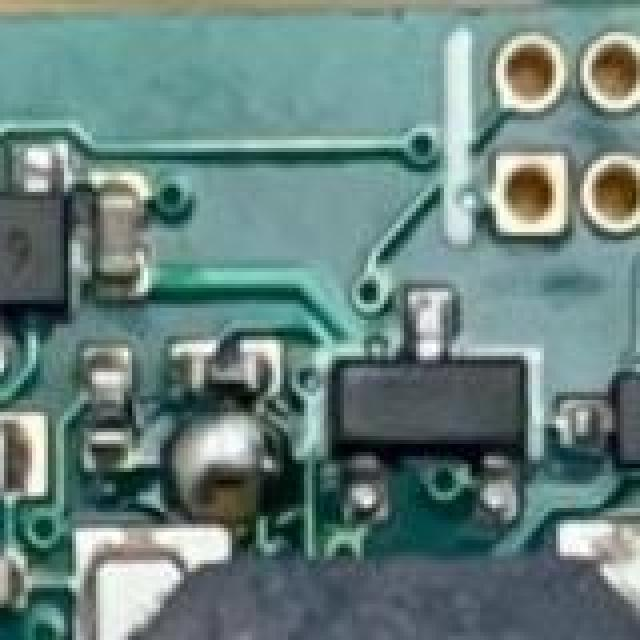buzzer: (96, 552, 640, 640)
diode: (612, 372, 640, 480)
resistor: (188, 324, 270, 404), (88, 372, 120, 480), (0, 424, 16, 488)
transistor: (328, 320, 538, 492), (0, 176, 84, 364)
